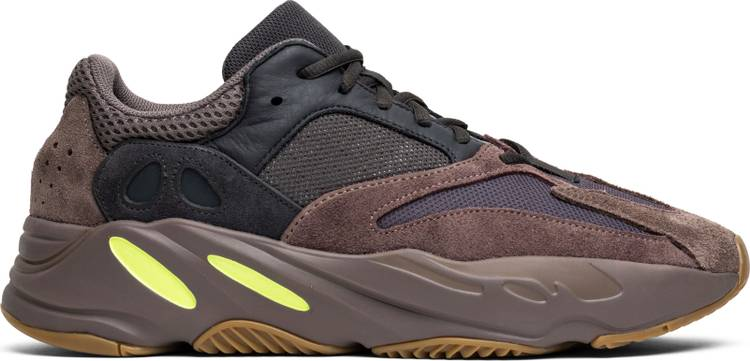adidas Yeezy 700 Mauve: (4, 2, 750, 356)
